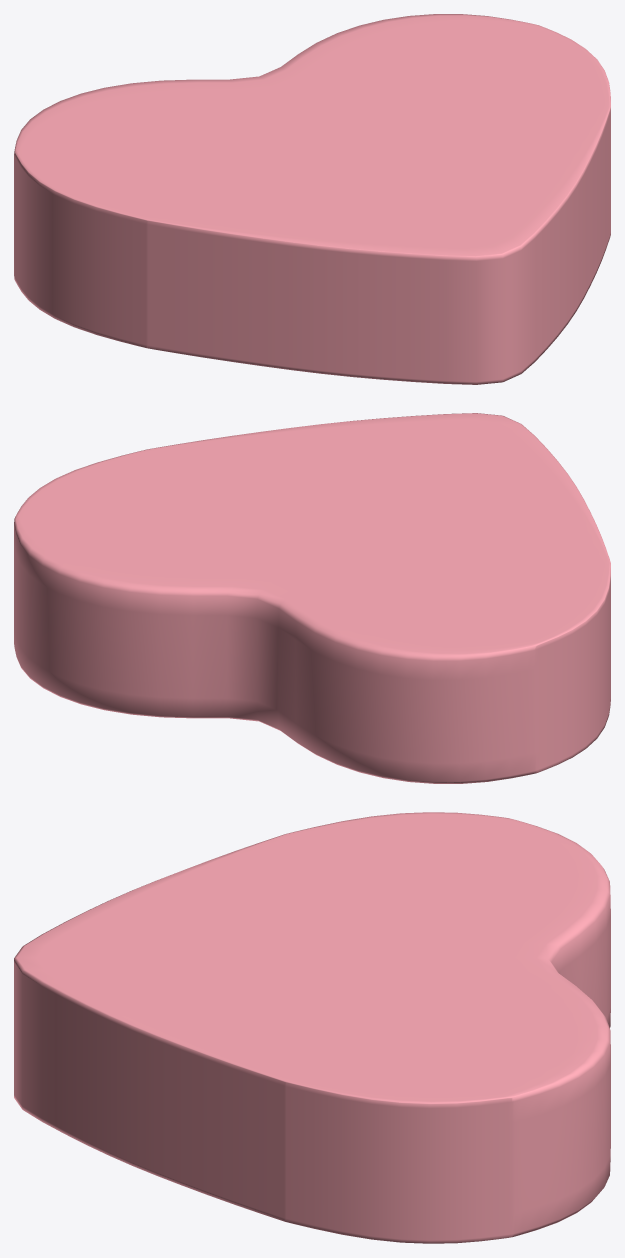
File: Strawberry.gltf
The picture shows the model from 3 angles, top to bottom: view 1: azimuth 30°, elevation 25°; view 2: azimuth 150°, elevation 25°; view 3: azimuth 270°, elevation 25°; orthographic projection. The views are drawn at different scales.
Visible parts, largest first — view 1: Object_2; view 2: Object_2; view 3: Object_2.
Part boxes in pixels (bbox=[...]): Object_2: bbox=[14, 14, 610, 384]; Object_2: bbox=[14, 413, 610, 783]; Object_2: bbox=[14, 812, 610, 1243].
Size of the model in its own units: 2.36 by 0.5304 by 2.04.
